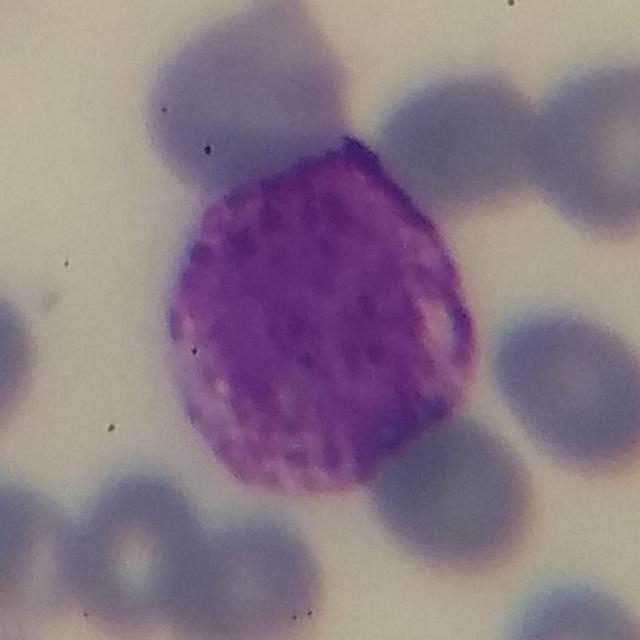Basophil: (150, 139, 483, 504)
RBC: (135, 0, 356, 198), (358, 403, 550, 582), (51, 461, 222, 639), (483, 296, 640, 483), (367, 62, 549, 222), (516, 49, 640, 245), (167, 505, 335, 640), (0, 471, 91, 635), (491, 571, 640, 640), (0, 274, 46, 445)
